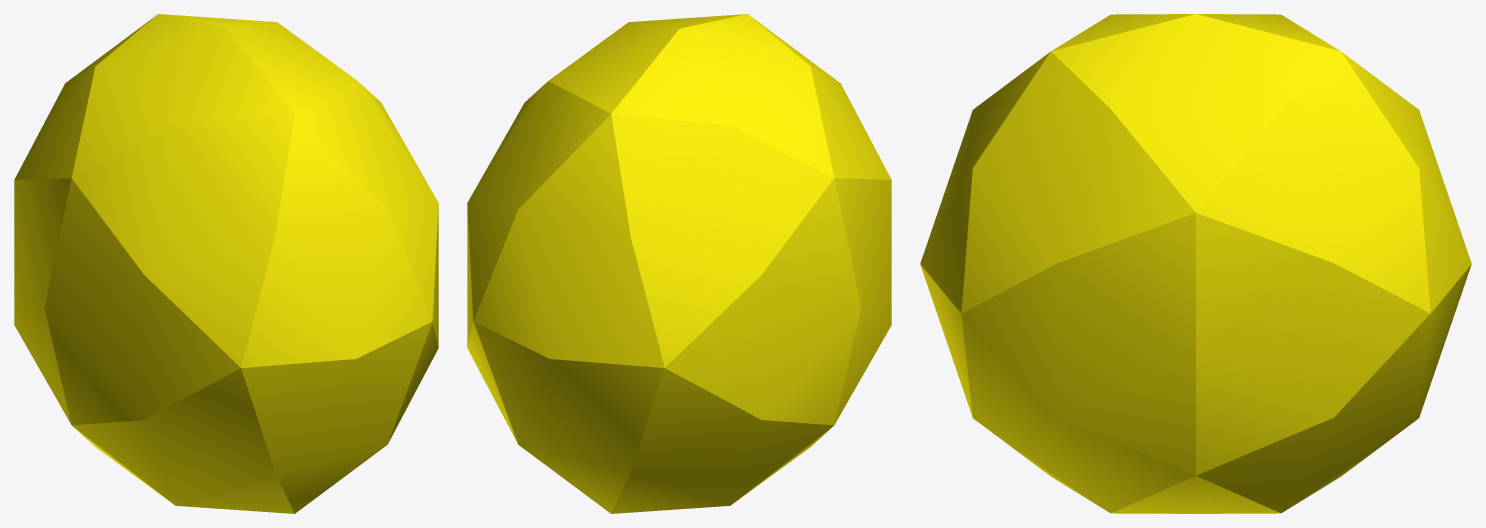
Rendered from DinoEgg 1.fbx.
3 renders of one model, left to right at view 1: azimuth 30°, elevation 25°; view 2: azimuth 150°, elevation 25°; view 3: azimuth 270°, elevation 25°, orthographic. The views are drawn at different scales.
Visible parts, largest first — view 1: icosphere; view 2: icosphere; view 3: icosphere.
Boxes of the visible parts, box(x1,y1,x2,y2) form: icosphere: box(14, 14, 438, 513); icosphere: box(467, 14, 891, 513); icosphere: box(920, 14, 1471, 513).
Bounding box in the file's own units: 8.1 × 10 × 10.
